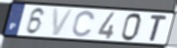0: (120, 12, 144, 42)
4: (96, 11, 116, 40)
6: (26, 7, 45, 35)
C: (71, 10, 97, 38)
T: (149, 14, 169, 42)
V: (52, 7, 76, 37)
